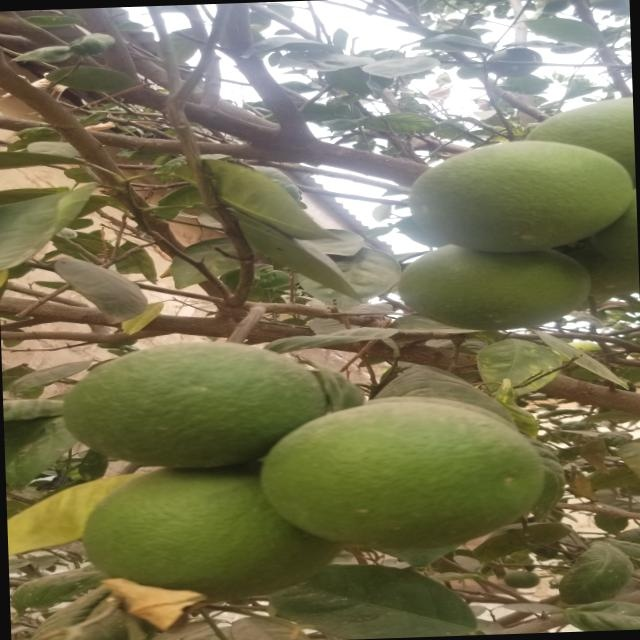agrume: (273, 388, 563, 569), (50, 325, 334, 468), (392, 128, 638, 265)
